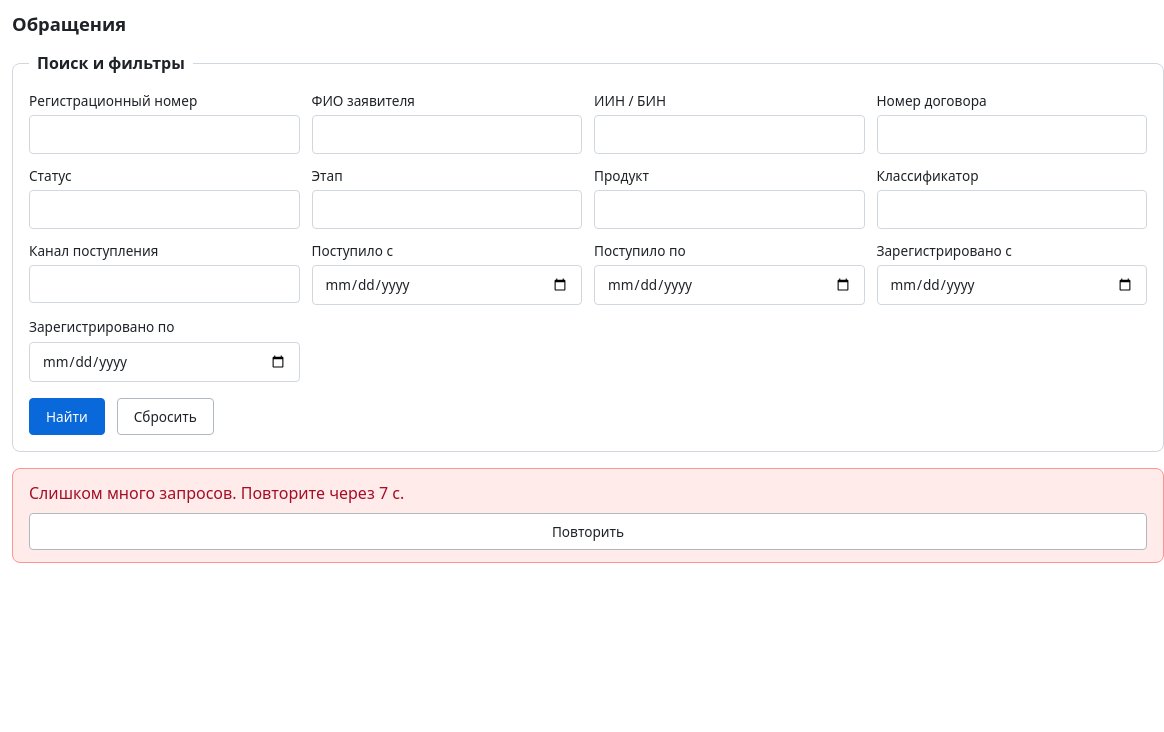
Scenario: TicketListPage › shows a bounded Retry-After hint and a manual retry on 429
Expected: the message shows "Слишком много запросов. Повторите через 7 с.", [29,482,404,504]
The manual retry re-issues the search.
Step 1. Click the button "Повторить" → (588,532), box [29,513,1147,550]
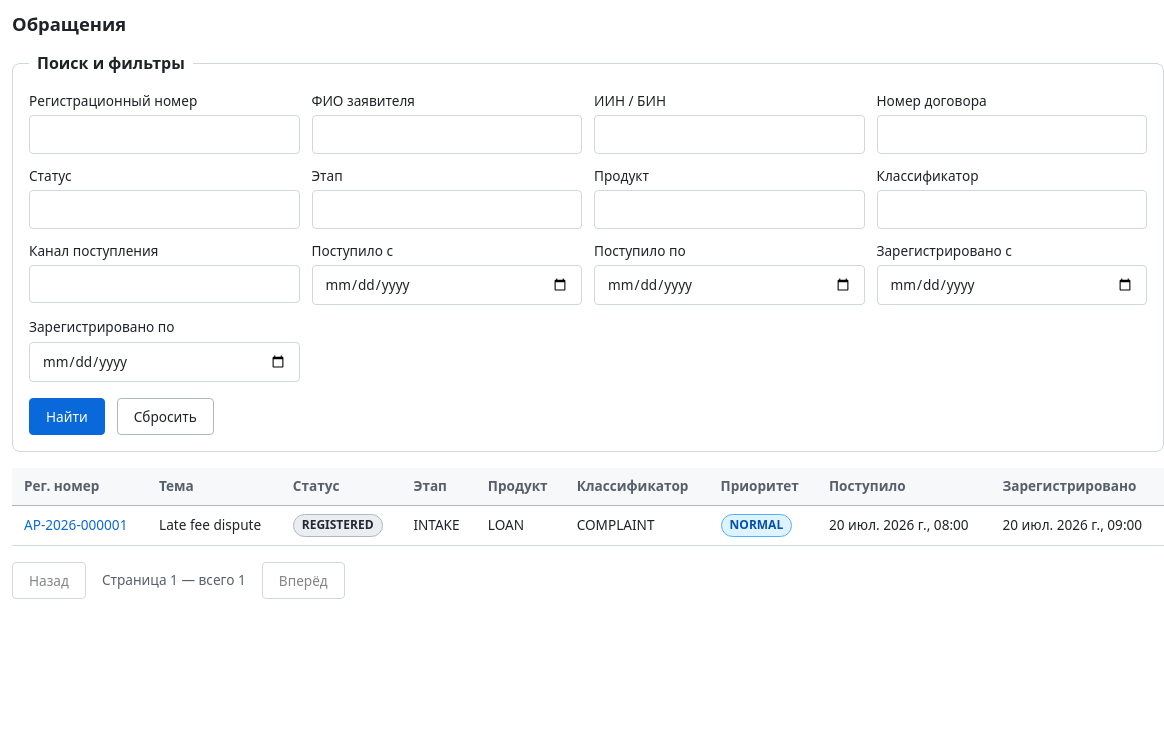
Now the link "AP-2026-000001" is shown, box [24,515,127,534]
